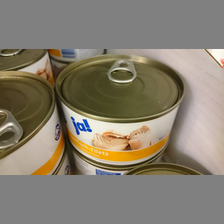fish: (54, 53, 185, 166), (1, 71, 64, 174)
